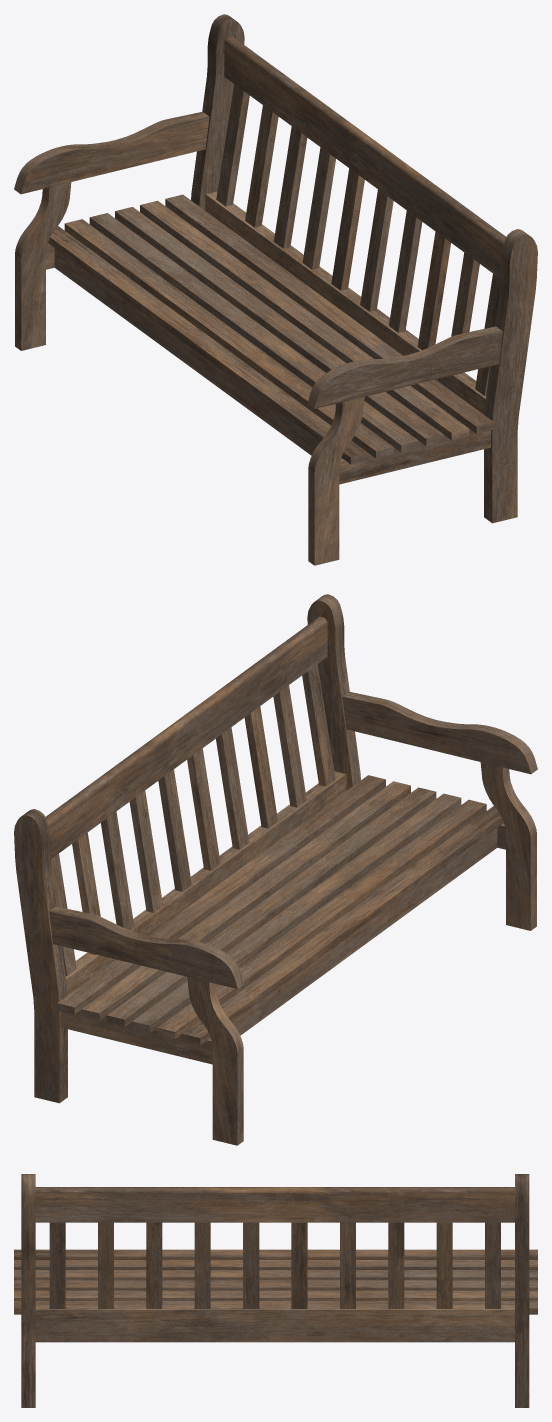
File: SM_BenchB.fbx
3 renders of one model, top to bottom at view 1: azimuth 30°, elevation 25°; view 2: azimuth 150°, elevation 25°; view 3: azimuth 270°, elevation 25°, orthographic. The views are drawn at different scales.
Parts seen in each view (by area): view 1: SM_BenchB_LOD0; view 2: SM_BenchB_LOD0; view 3: SM_BenchB_LOD0.
Part boxes in pixels (x1,y1,x2,y2): SM_BenchB_LOD0: (14, 14, 537, 565); SM_BenchB_LOD0: (14, 594, 537, 1145); SM_BenchB_LOD0: (14, 1174, 537, 1407).
Size of the model in its own units: 90.38 by 219 by 108.
1 material, 1 textured.
